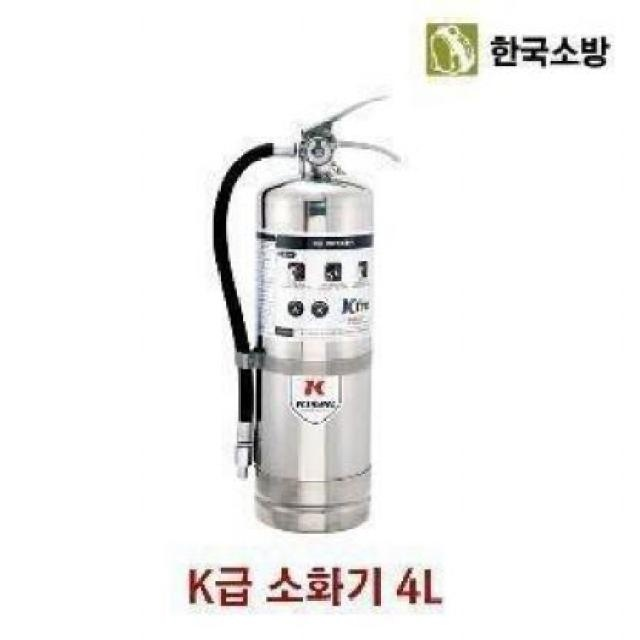fire extinguisher: (212, 94, 400, 534)
